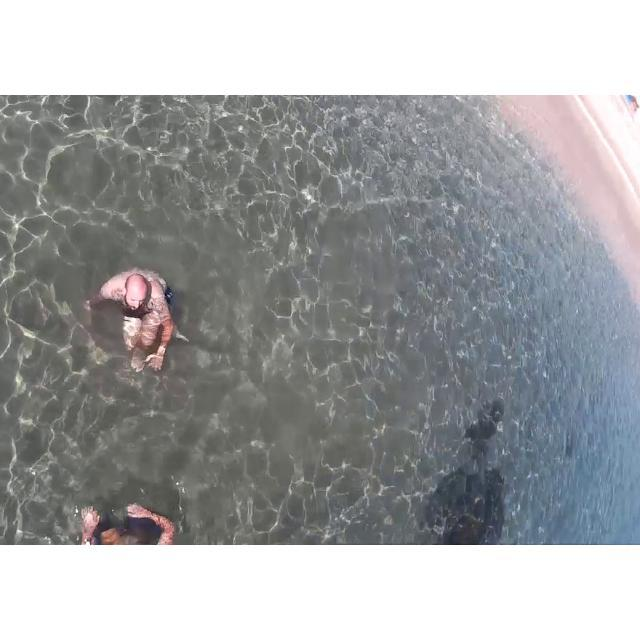human: (76, 244, 198, 388)
